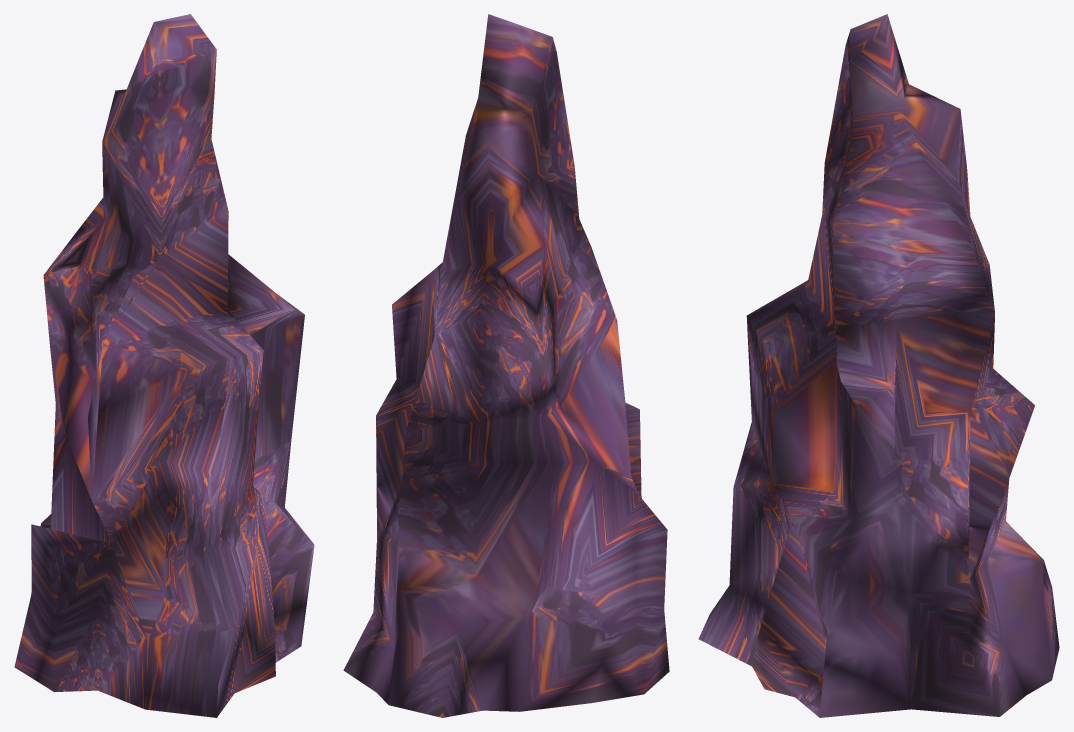
The model's file is forge-lava-spire-far-COC-p23K.glb.
3 views of the same model, side by side, from view 1: azimuth 30°, elevation 25°; view 2: azimuth 150°, elevation 25°; view 3: azimuth 270°, elevation 25° (orthographic). The views are drawn at different scales.
Parts seen in each view (by area): view 1: tripo_node_5fbe0914-af01-4801-863b-689d8286a2dd; view 2: tripo_node_5fbe0914-af01-4801-863b-689d8286a2dd; view 3: tripo_node_5fbe0914-af01-4801-863b-689d8286a2dd.
Part boxes in pixels (left/top/right/bottom): tripo_node_5fbe0914-af01-4801-863b-689d8286a2dd: left=14, top=14, right=314, bottom=717; tripo_node_5fbe0914-af01-4801-863b-689d8286a2dd: left=343, top=14, right=669, bottom=717; tripo_node_5fbe0914-af01-4801-863b-689d8286a2dd: left=698, top=14, right=1059, bottom=717.
Size of the model in its own units: 0.4393 by 0.9913 by 0.5009.
1 material, 1 textured.
